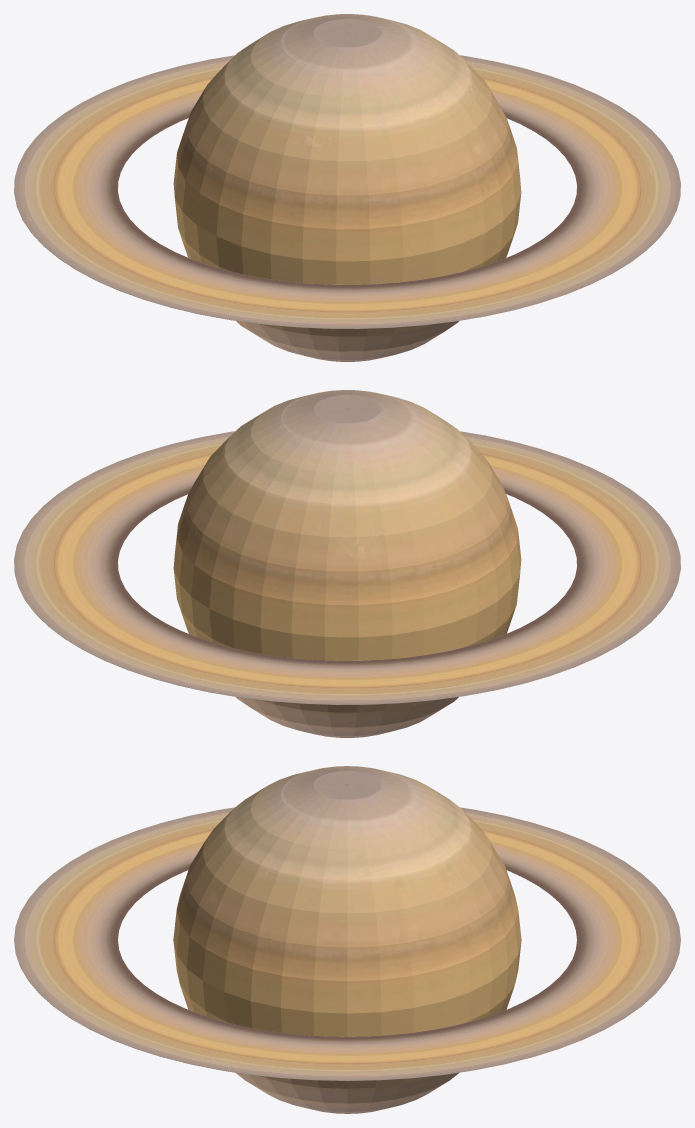
Rendered from Saturn.obj.
3 renders of one model, top to bottom at view 1: azimuth 30°, elevation 25°; view 2: azimuth 150°, elevation 25°; view 3: azimuth 270°, elevation 25°, orthographic.
Parts seen in each view (by area): view 1: Sphere, Cylinder_Cylinder.002; view 2: Sphere, Cylinder_Cylinder.002; view 3: Sphere, Cylinder_Cylinder.002.
Part boxes in pixels (bbox=[...]): Sphere: bbox=[173, 14, 521, 361]; Cylinder_Cylinder.002: bbox=[14, 55, 680, 328]; Sphere: bbox=[173, 390, 521, 737]; Cylinder_Cylinder.002: bbox=[14, 431, 680, 704]; Sphere: bbox=[173, 766, 521, 1113]; Cylinder_Cylinder.002: bbox=[14, 807, 680, 1080].
Bounding box in the file's own units: 400 × 205 × 400.
Materials: 2 (2 with a texture image).
